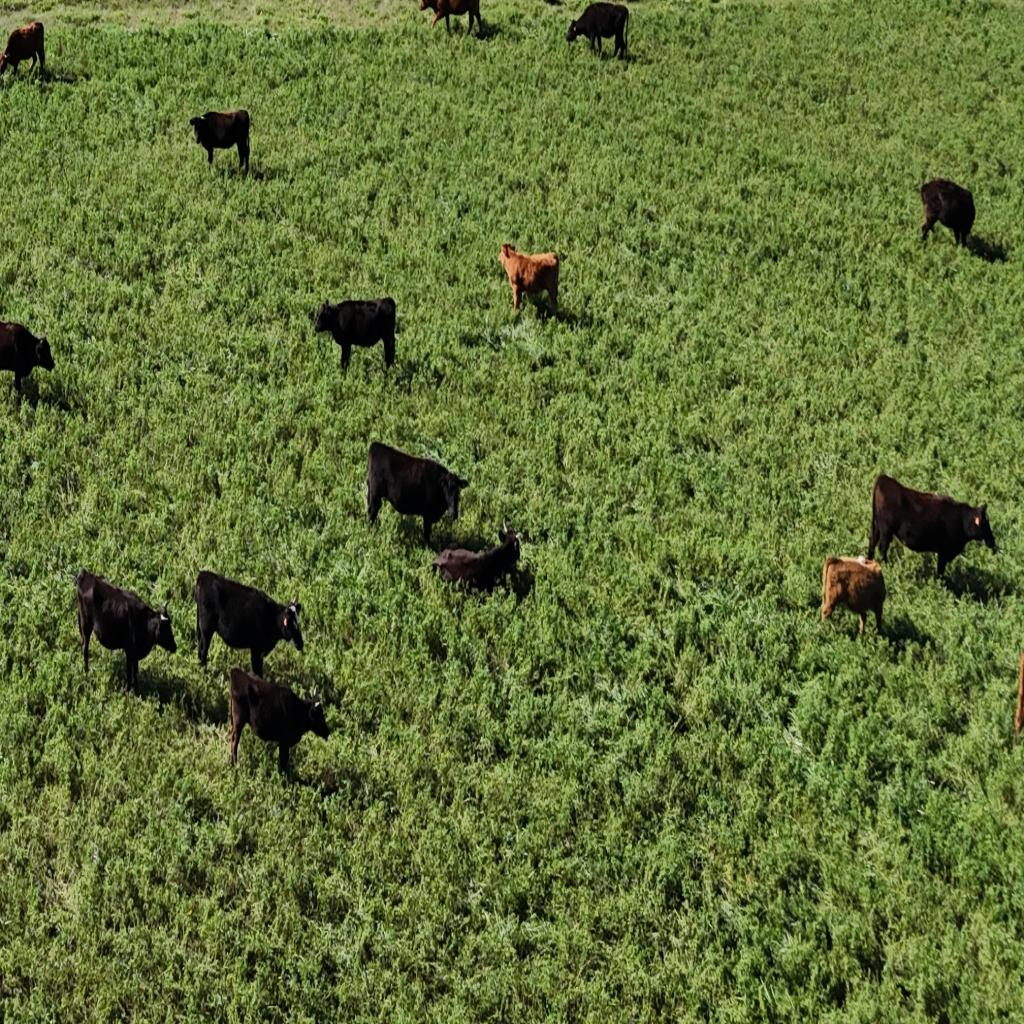cow: (868, 474, 993, 586), (76, 570, 177, 696), (193, 571, 306, 681), (226, 666, 330, 778), (364, 442, 471, 544), (430, 521, 522, 597), (312, 295, 398, 373), (820, 555, 886, 639), (498, 242, 560, 318), (0, 320, 55, 402), (188, 110, 250, 178), (918, 178, 976, 248), (566, 1, 630, 62), (0, 21, 46, 85), (423, 1, 483, 37)
